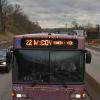Bus: (7, 30, 87, 99)
